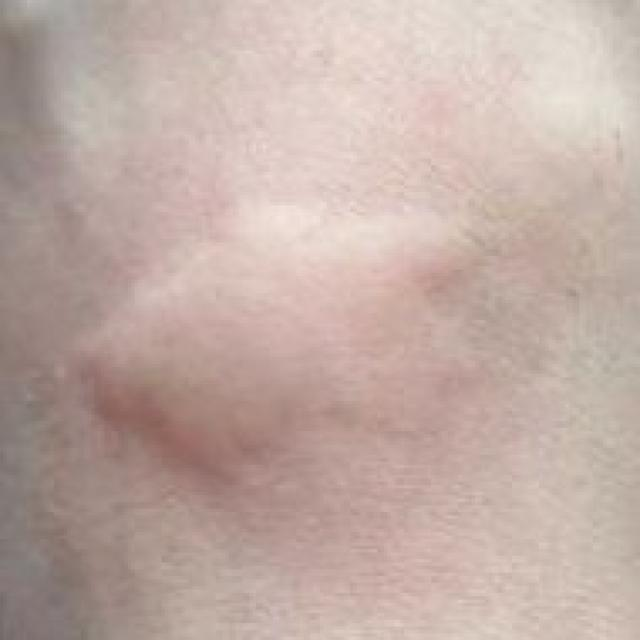sinek: (16, 126, 593, 533)
